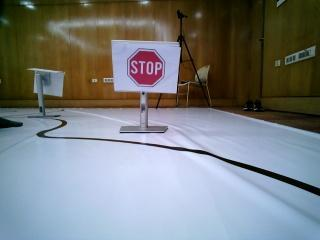stop: (112, 40, 179, 93)
